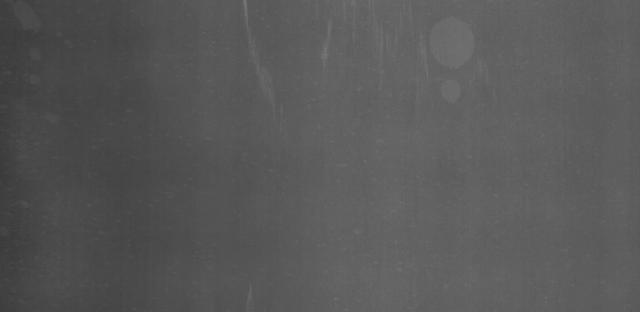oil_spot: (415, 14, 482, 115)
silk_spot: (300, 13, 400, 70), (242, 48, 277, 110)
